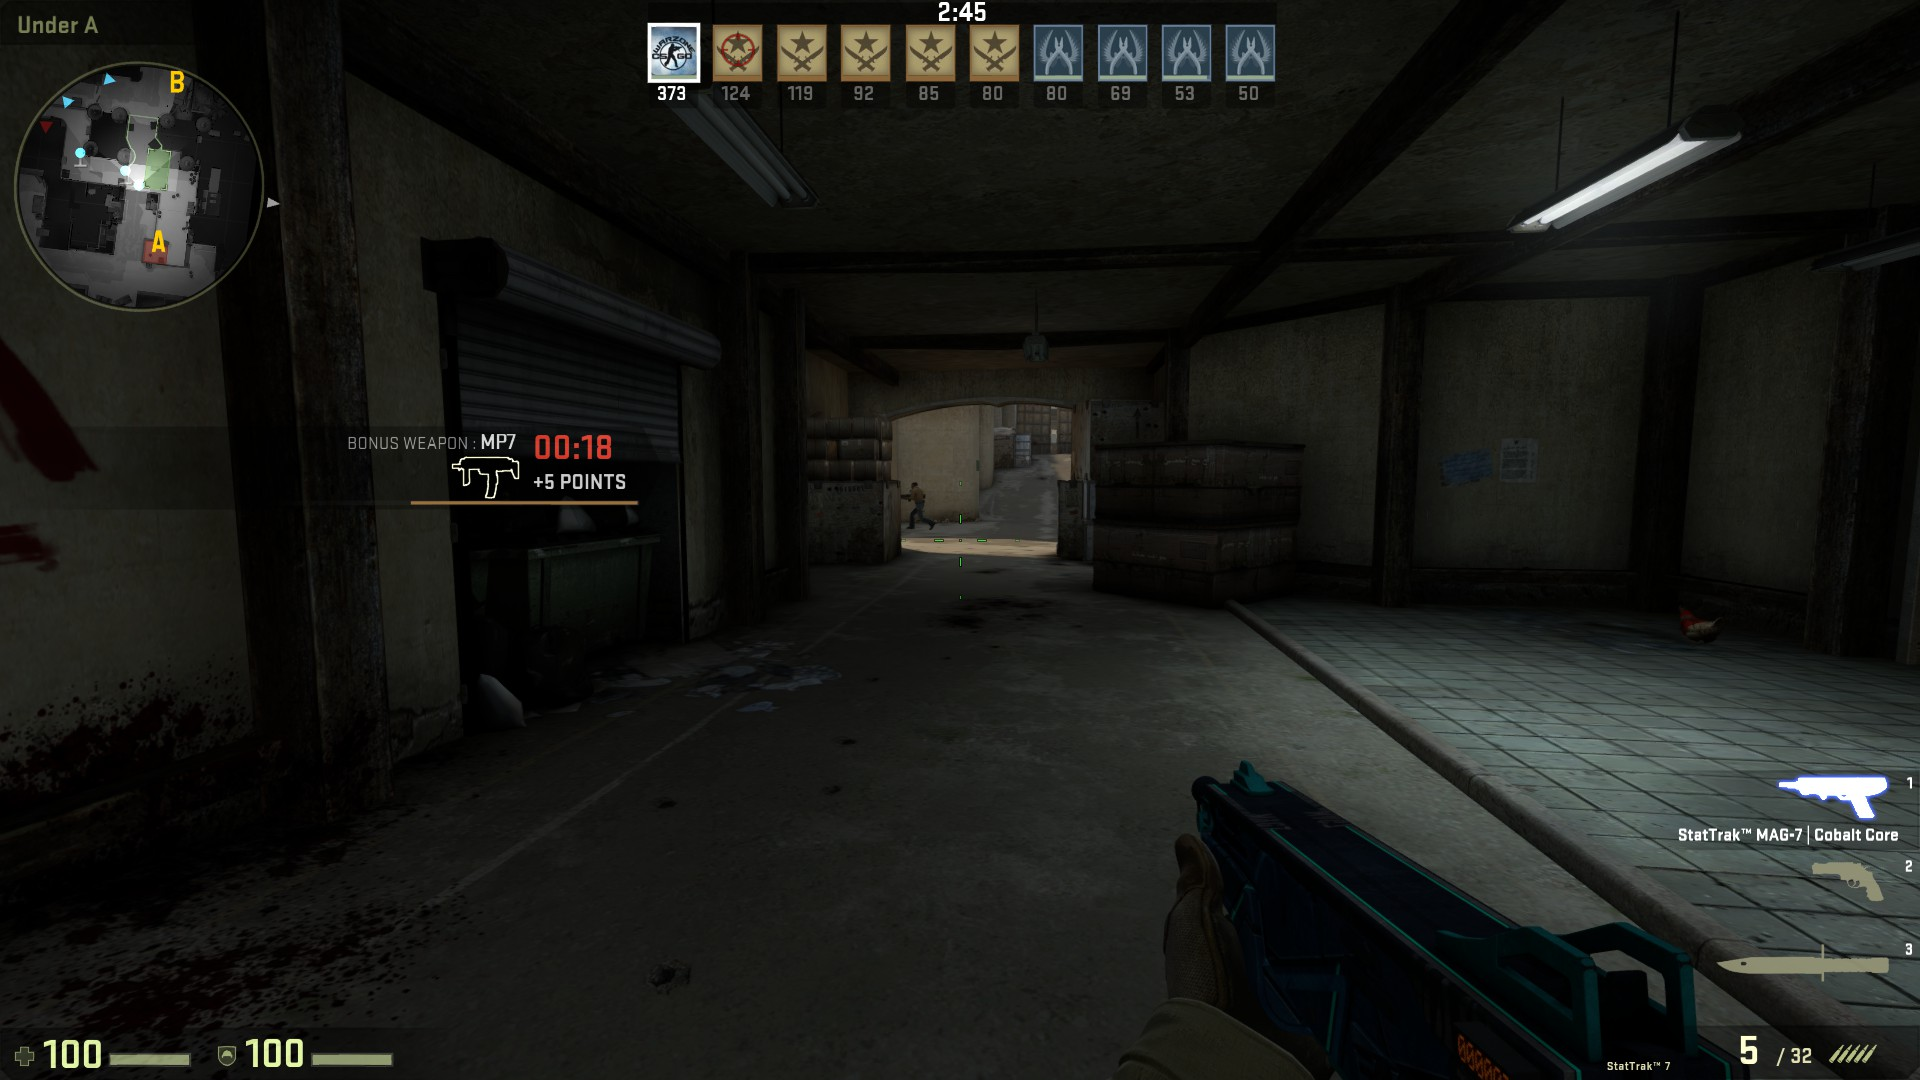t: (905, 481, 932, 529)
th: (907, 481, 922, 495)
